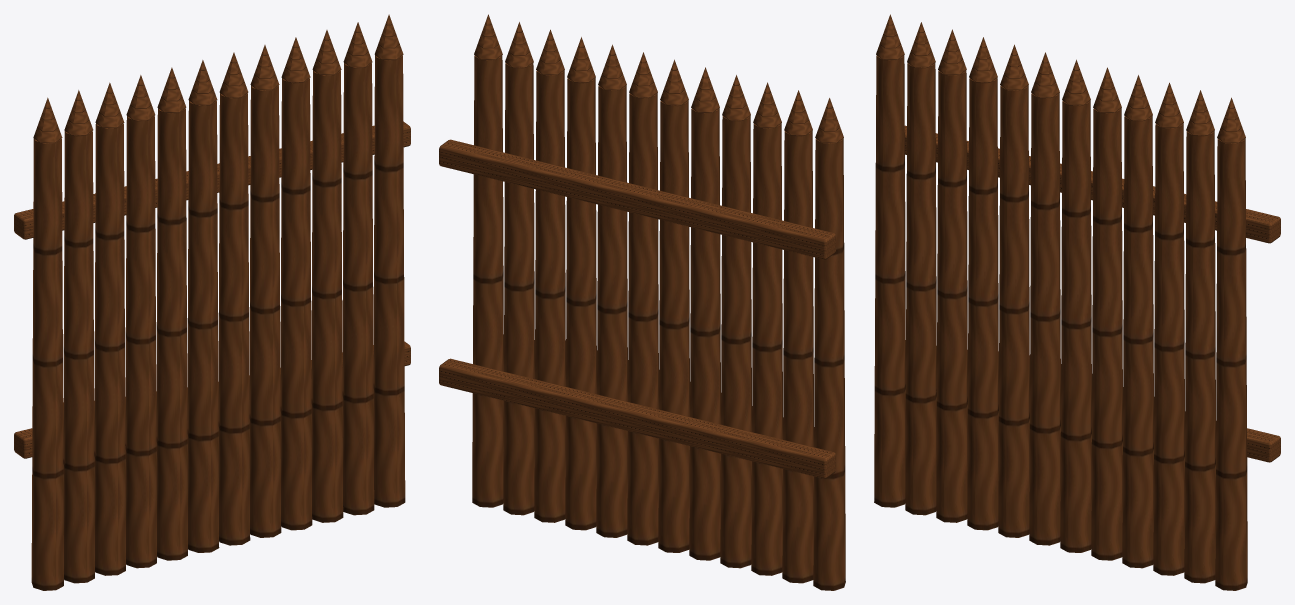
File: fortified-compound-expansion-palisade-spiked-7e81d2a6__27080.glb
3 views of the same model, side by side, from view 1: azimuth 30°, elevation 25°; view 2: azimuth 150°, elevation 25°; view 3: azimuth 330°, elevation 25° (orthographic).
Visible parts, largest first — view 1: palisade-spiked; view 2: palisade-spiked; view 3: palisade-spiked.
Part boxes in pixels (bbox=[...]): palisade-spiked: bbox=[14, 14, 410, 590]; palisade-spiked: bbox=[439, 14, 845, 590]; palisade-spiked: bbox=[874, 14, 1280, 590].
Size of the model in its own units: 2 by 2.4 by 0.2476.
1 material, 1 textured.
